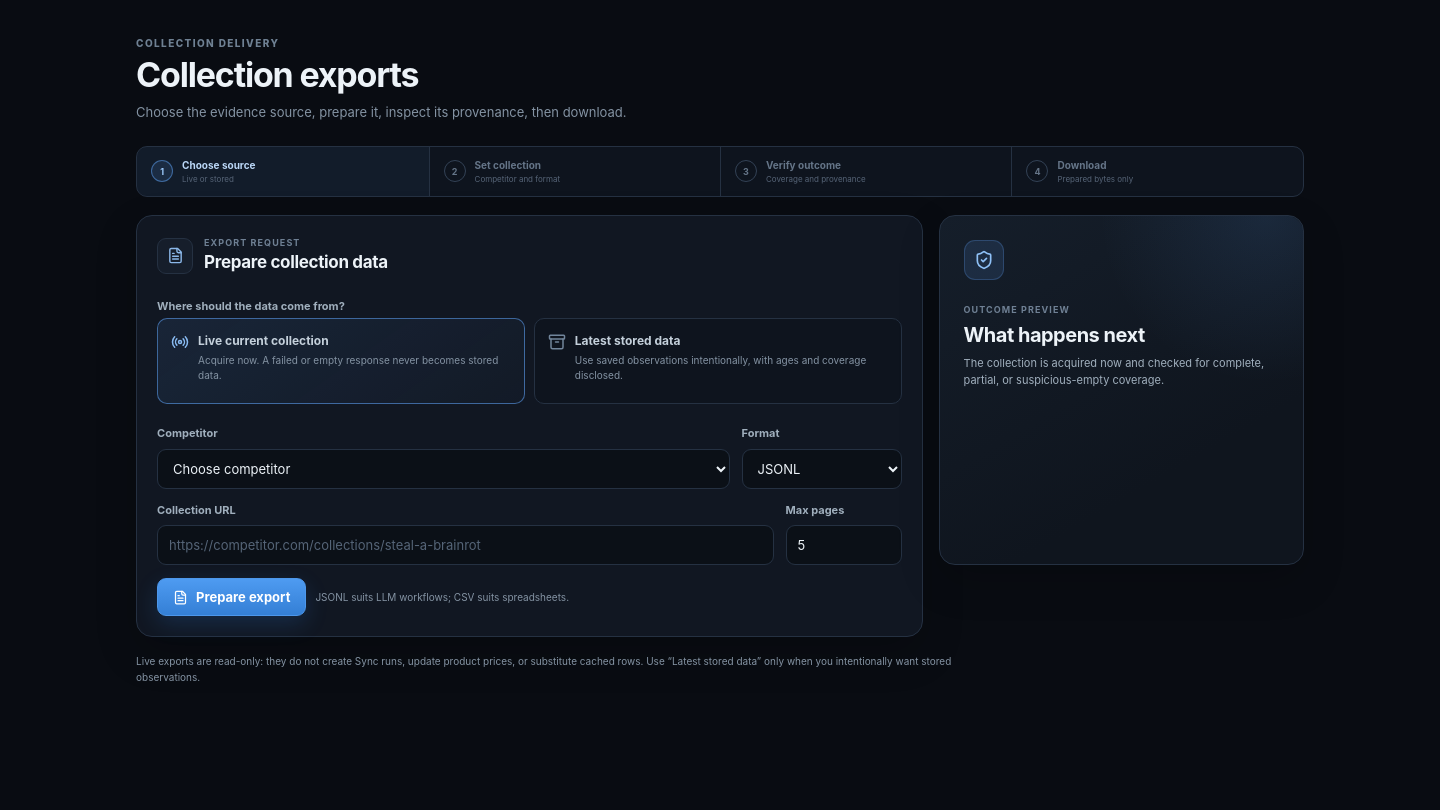
it: Collection exports daily-use states › presents partial coverage and a page-cap warning without hiding the file
Select "Alpha Store" in the dropdown labelled "Competitor" at {"x": 443, "y": 469}, box [157,449,730,489]
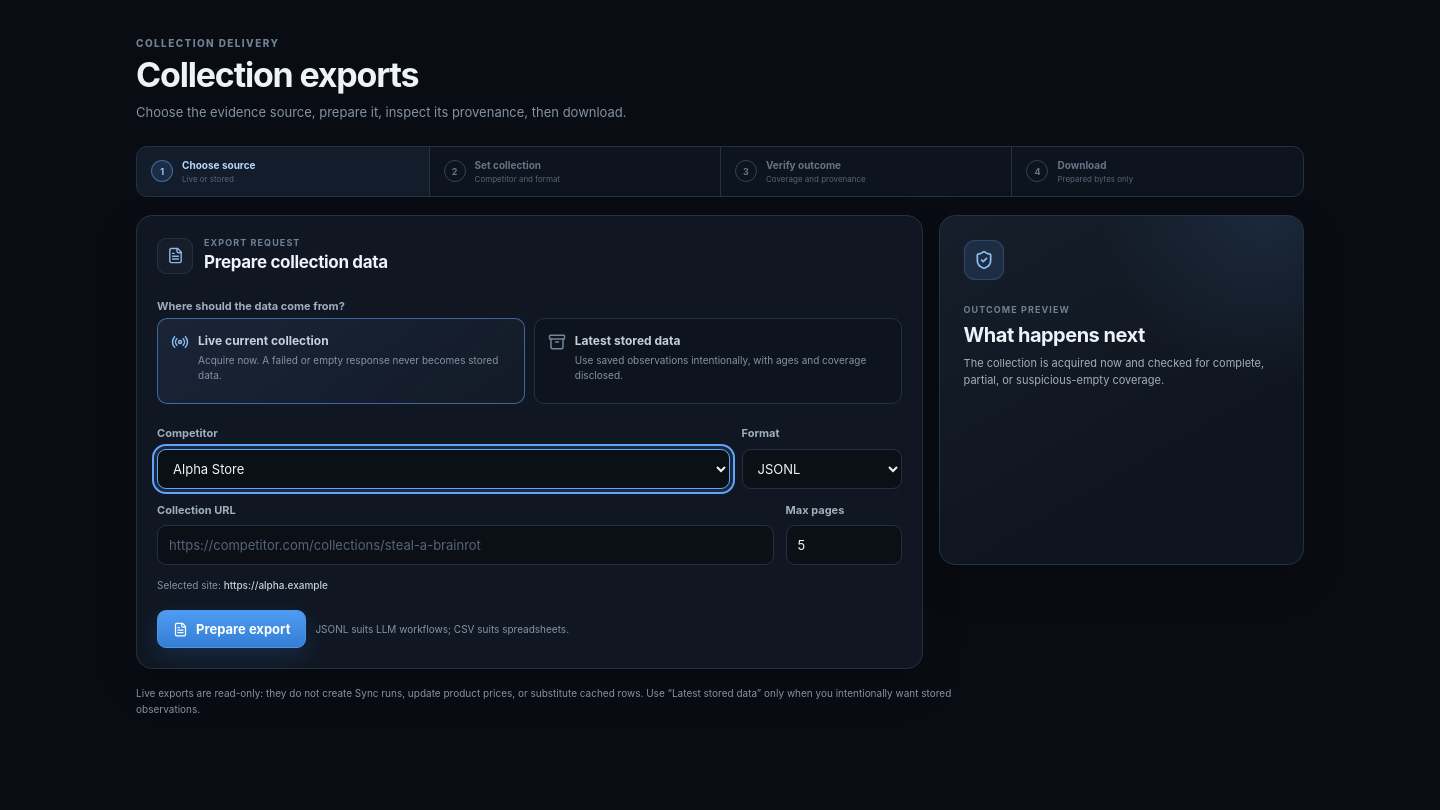
Type "https://alpha.example/collections/murder-mystery-2" into the field labelled "Collection URL" at {"x": 465, "y": 545}, box [157,525,774,565]
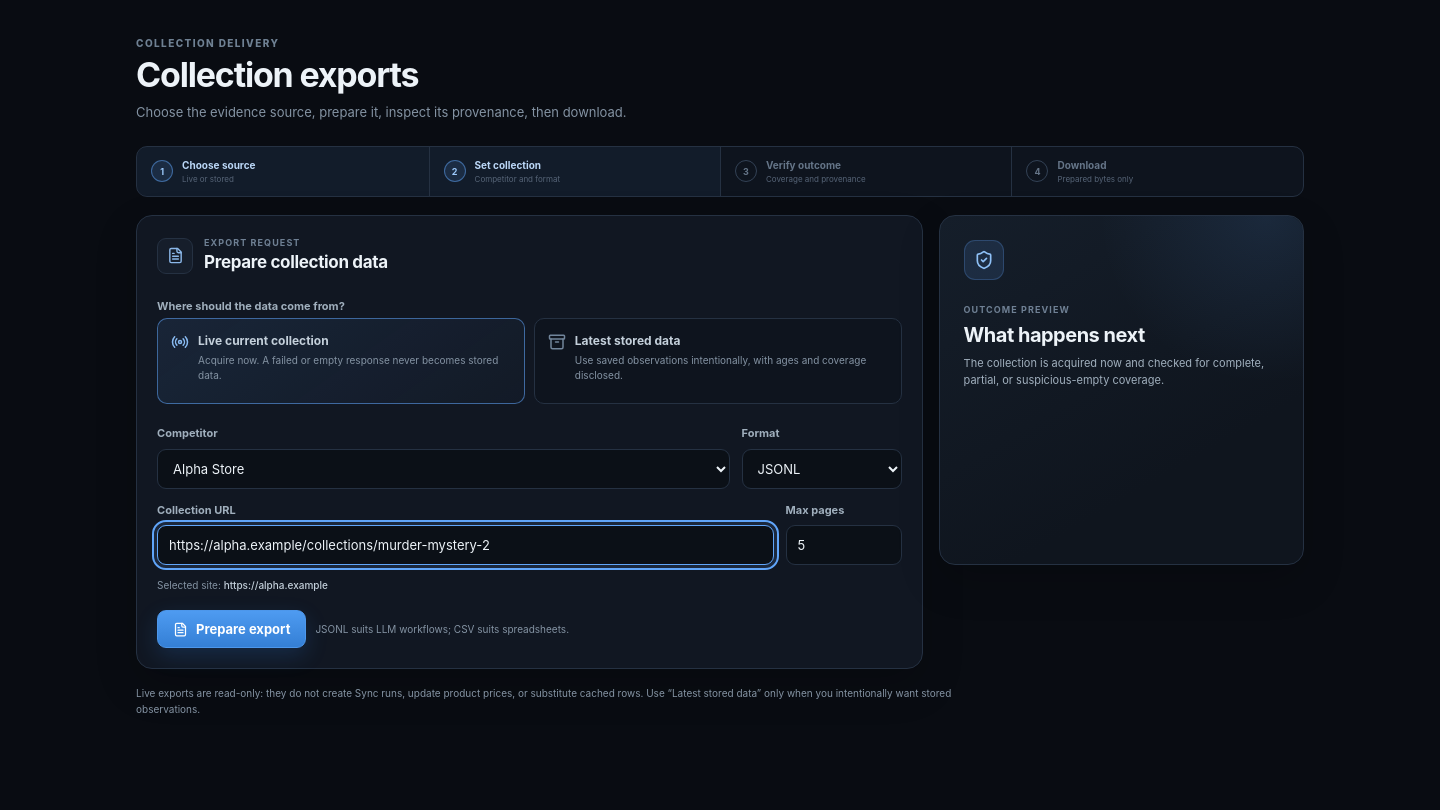
Click the button "Prepare export" at {"x": 232, "y": 629}, box [157,610,306,648]
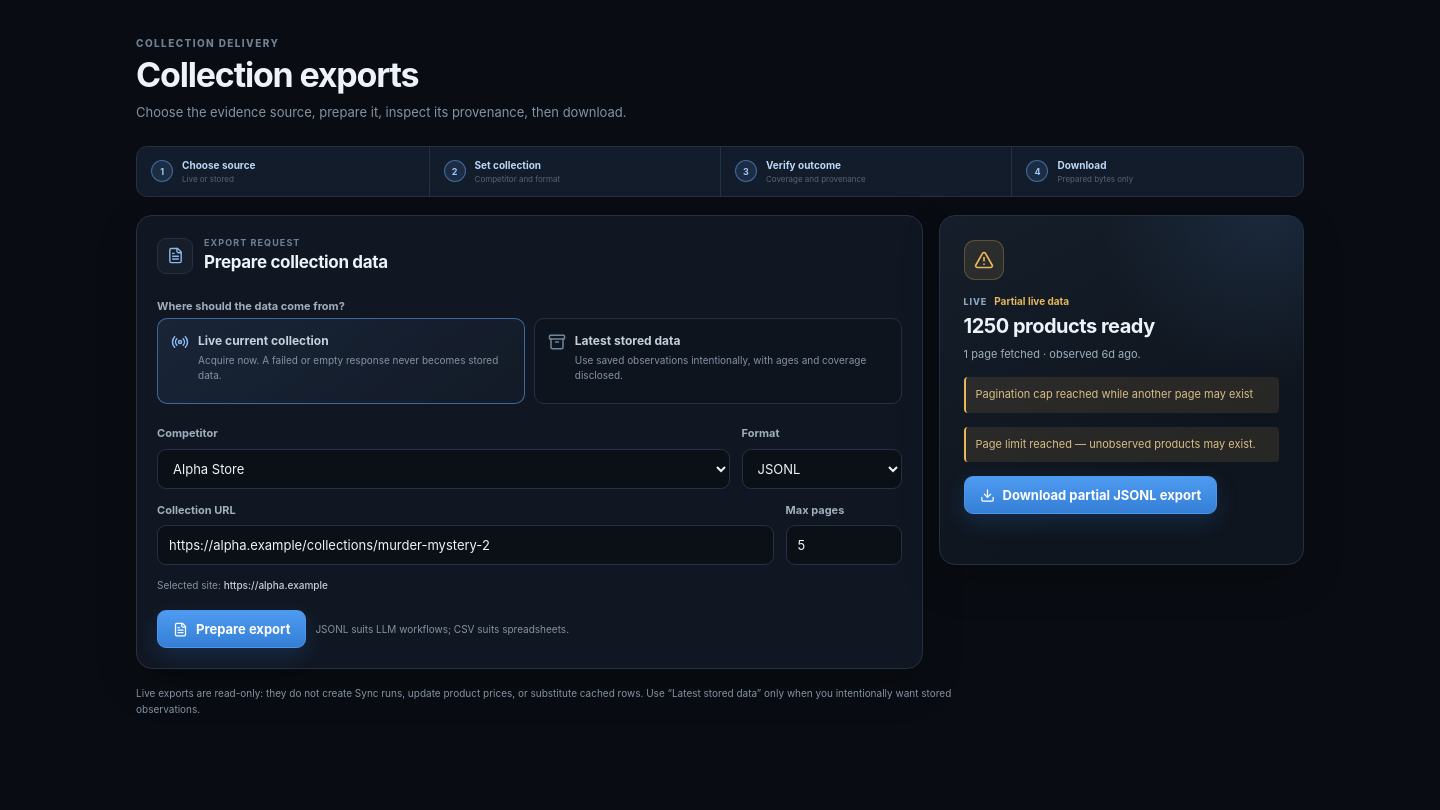
Expected: the text "Partial live data" is shown, [994,294,1069,309]
Expected: the text "Page limit reached — unobserved products may exist." is shown, [964,427,1279,462]
Expected: the button "Download partial JSONL export" is shown, [964,476,1217,514]
